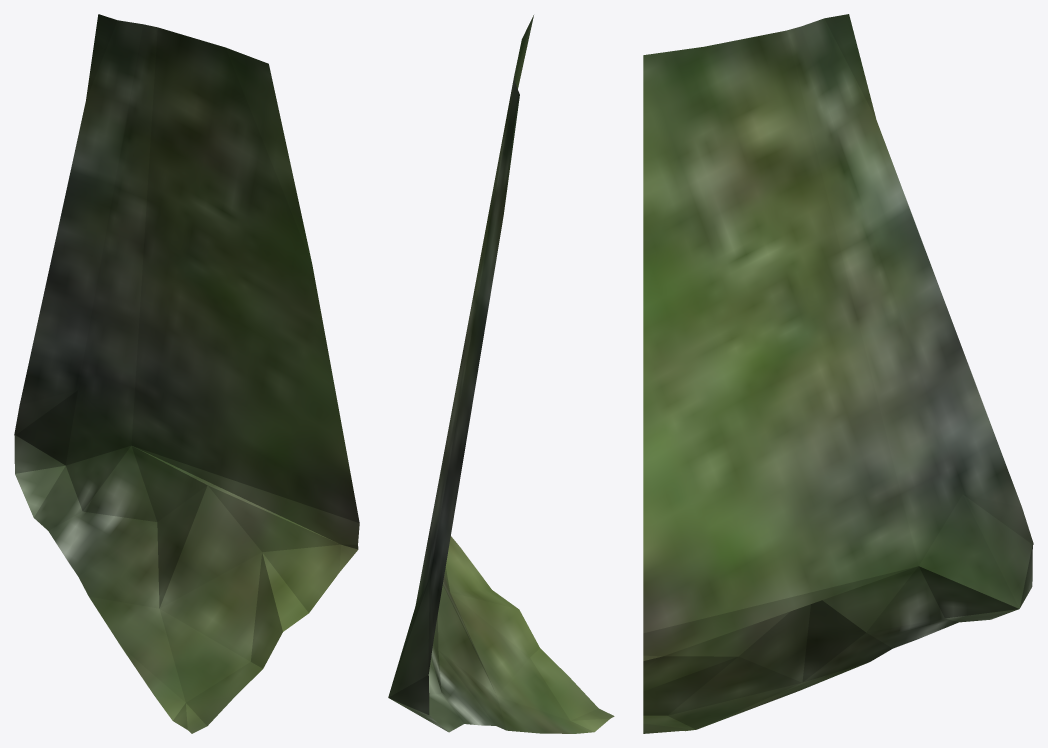
3 views of the same model, side by side, from view 1: azimuth 30°, elevation 25°; view 2: azimuth 150°, elevation 25°; view 3: azimuth 270°, elevation 25° (orthographic). The views are drawn at different scales.
Bounding box in the file's own units: 1.98 × 7.36 × 3.63.
1 material, 1 textured.
